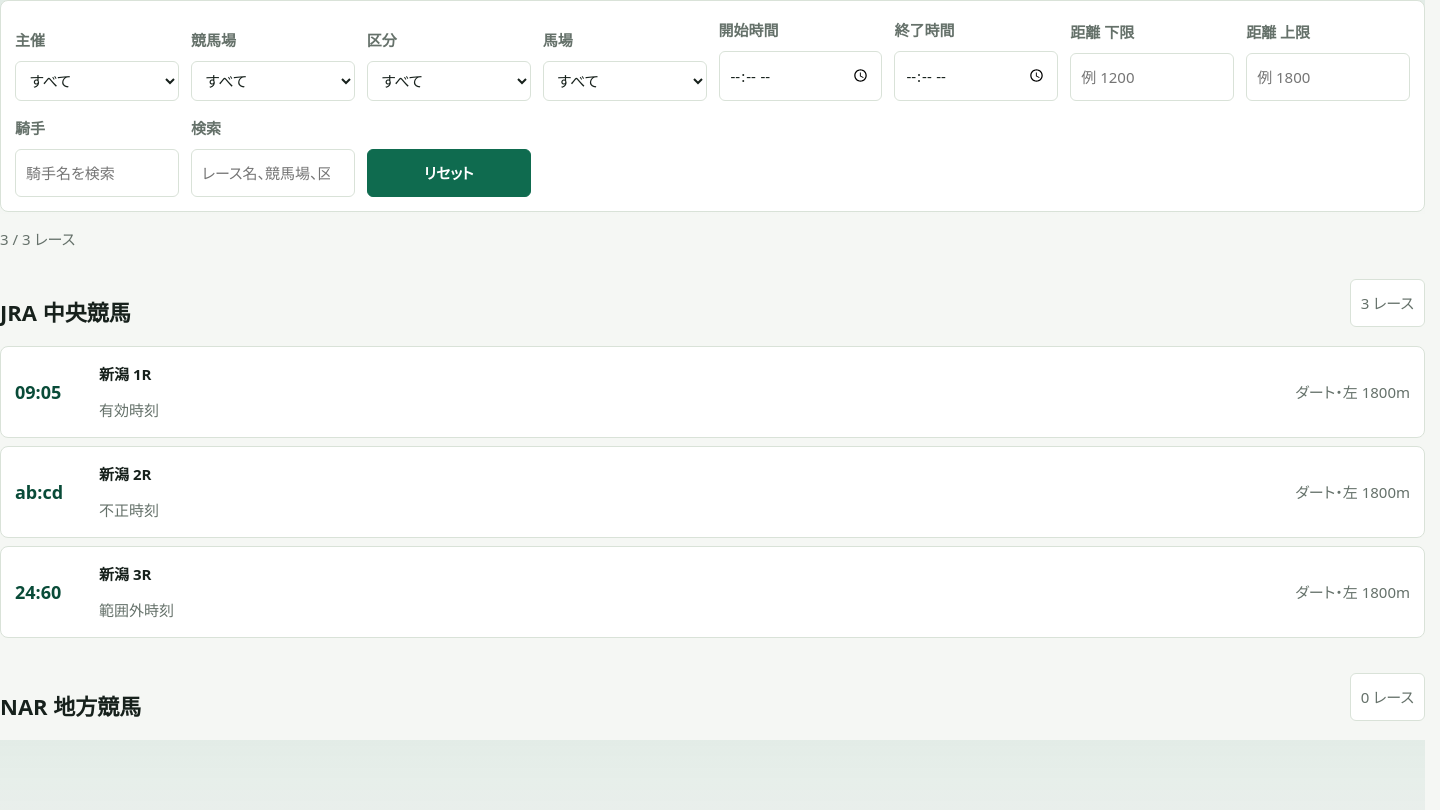
race date filter › excludes races with malformed or impossible start times when time filters are set
Type "09:00" into the time field labelled "開始時間" at (800, 76), box x1=718 y1=51 x2=882 y2=101
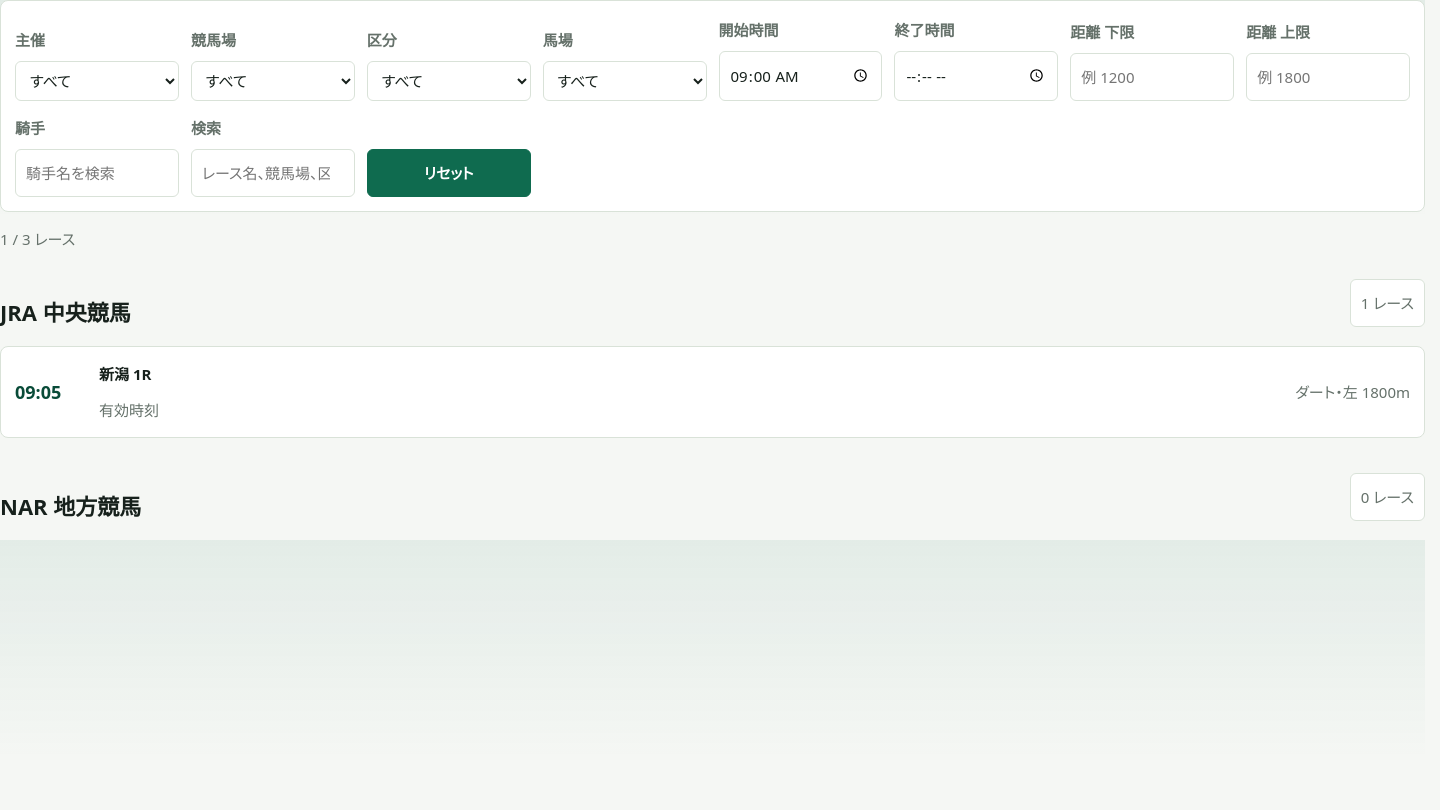
Expected: the text "1 / 3 レース" is shown, x1=0 y1=229 x2=75 y2=249
Expected: the link "不正時刻" is gone
Expected: the link "範囲外時刻" is gone
